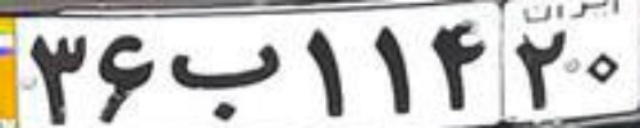0: (582, 51, 622, 84)
1: (302, 29, 344, 116), (370, 27, 410, 113)
2: (515, 29, 569, 111)
3: (30, 34, 88, 123)
4: (427, 22, 487, 110)
6: (95, 35, 155, 123)
be: (169, 44, 286, 121)
